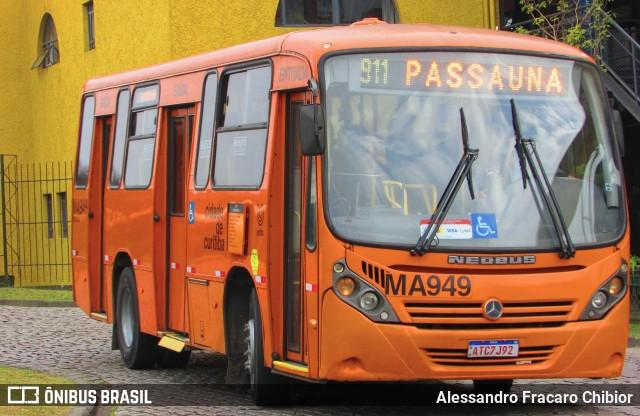PASSAUNA: (400, 54, 565, 93)
